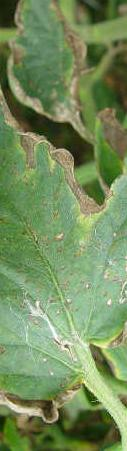Tomato leaf bacterial spot: (0, 26, 127, 450)
